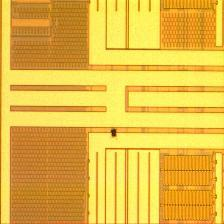PARTICLE: (109, 127, 121, 139)
